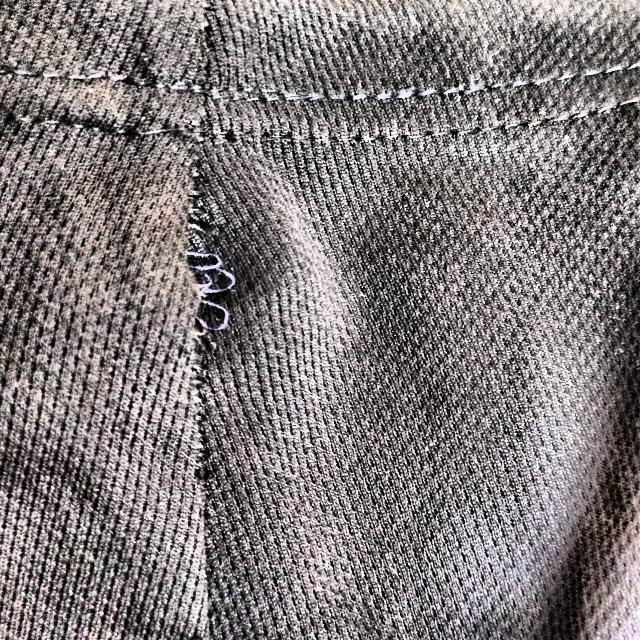gray stitch: (161, 194, 264, 373)
